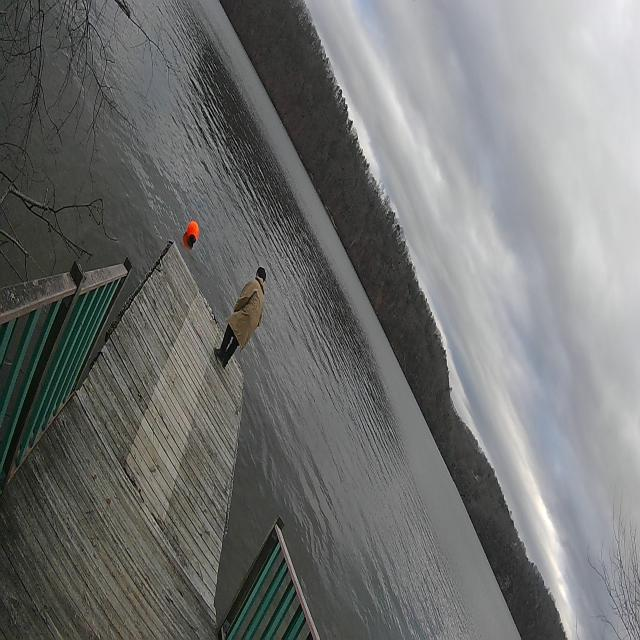Buoy: (184, 216, 201, 254)
